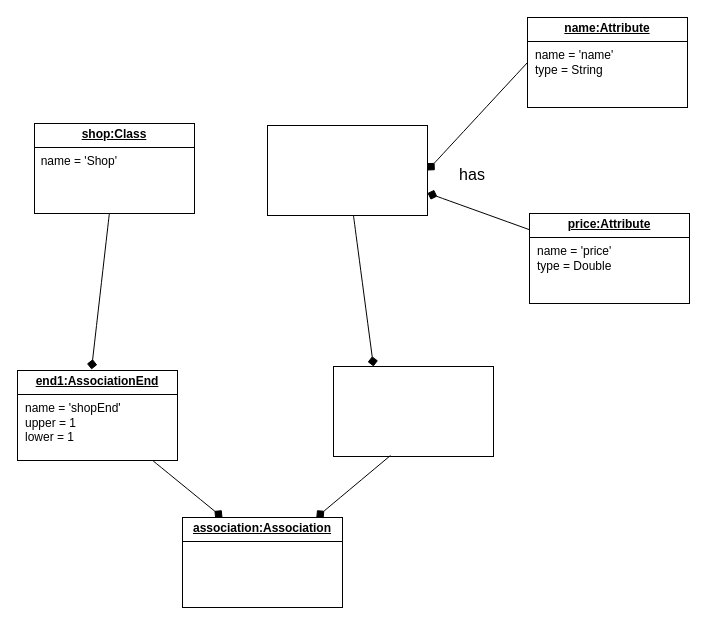
This 707x625 diagram has some shape labels left out. The shapes that lost their labels are listed below. From the top down, each one's box as (x1, y1, x2, y2) in pixels, then its label:
(266, 124, 428, 216): article: Class name = 'Article'
(332, 366, 494, 456): end2:AssociationEnd name = 'articleEnd' upper = INT_MAX lower = 0
